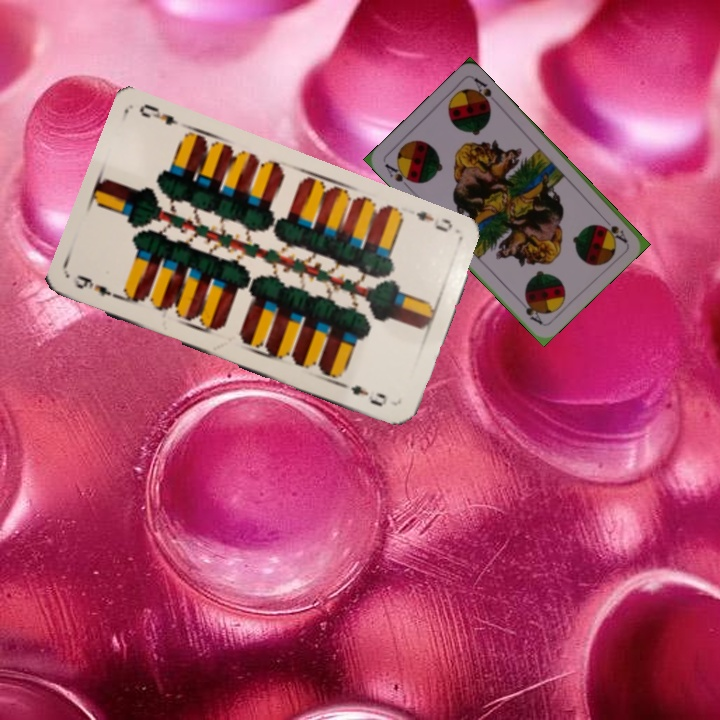E9: (68, 270, 125, 303), (412, 207, 455, 235)
SA: (381, 159, 417, 191), (597, 212, 630, 245)
